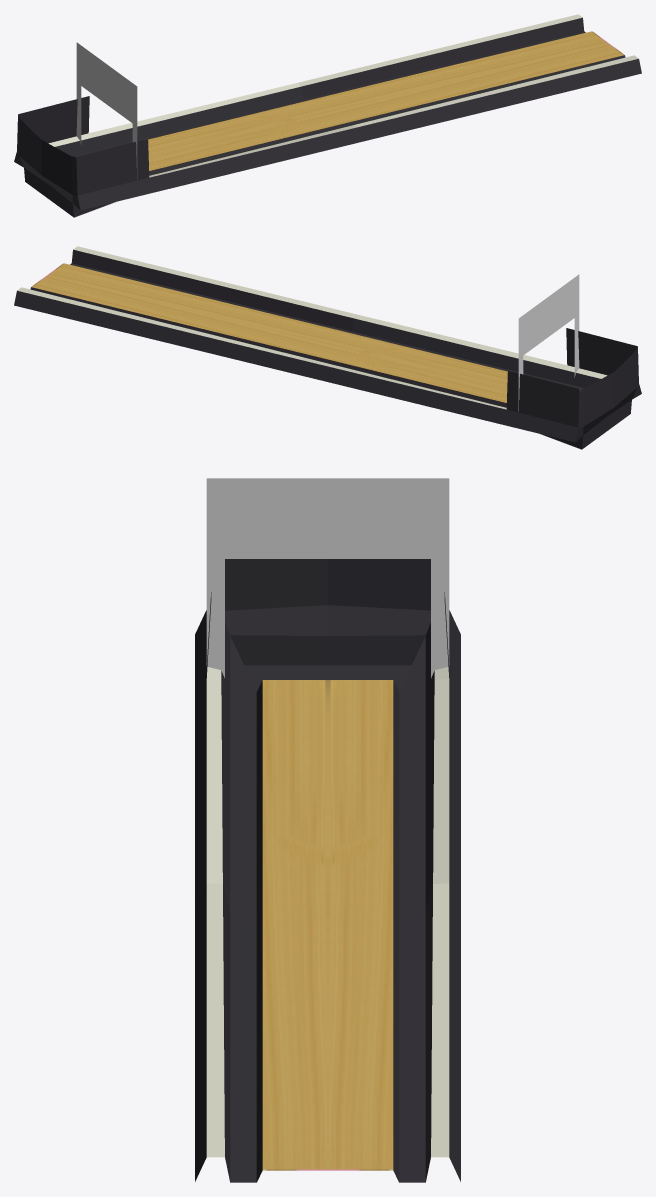
Rendered from bowling_alley.fbx.
The picture shows the model from 3 angles, top to bottom: view 1: azimuth 30°, elevation 25°; view 2: azimuth 150°, elevation 25°; view 3: azimuth 270°, elevation 25°; orthographic projection. The views are drawn at different scales.
Parts seen in each view (by area): view 1: Plane, Plane.001; view 2: Plane, Plane.001; view 3: Plane, Plane.001.
Boxes of the visible parts, x1,y1,x2,y2 form: Plane: [14, 14, 641, 217]; Plane.001: [76, 42, 137, 179]; Plane: [14, 246, 641, 449]; Plane.001: [518, 274, 579, 411]; Plane: [195, 559, 460, 1182]; Plane.001: [206, 478, 449, 678].
Bounding box in the file's own units: 3614 × 740 × 735.
1 material, 1 textured.
